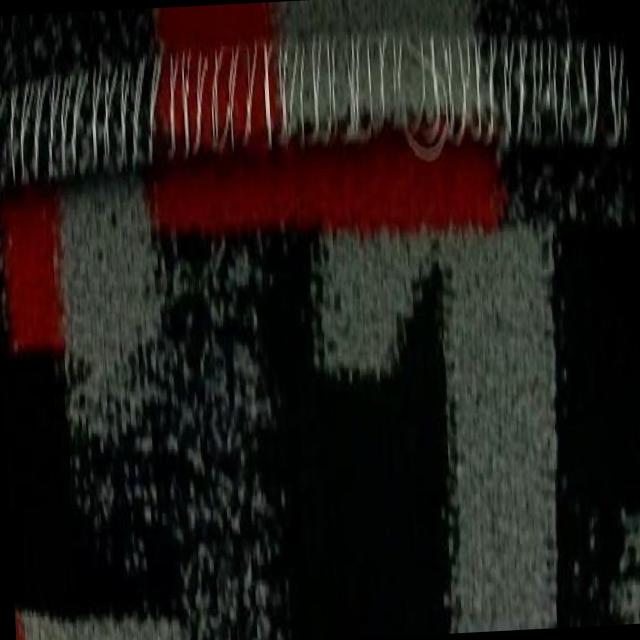gray stitch: (0, 20, 631, 186)
